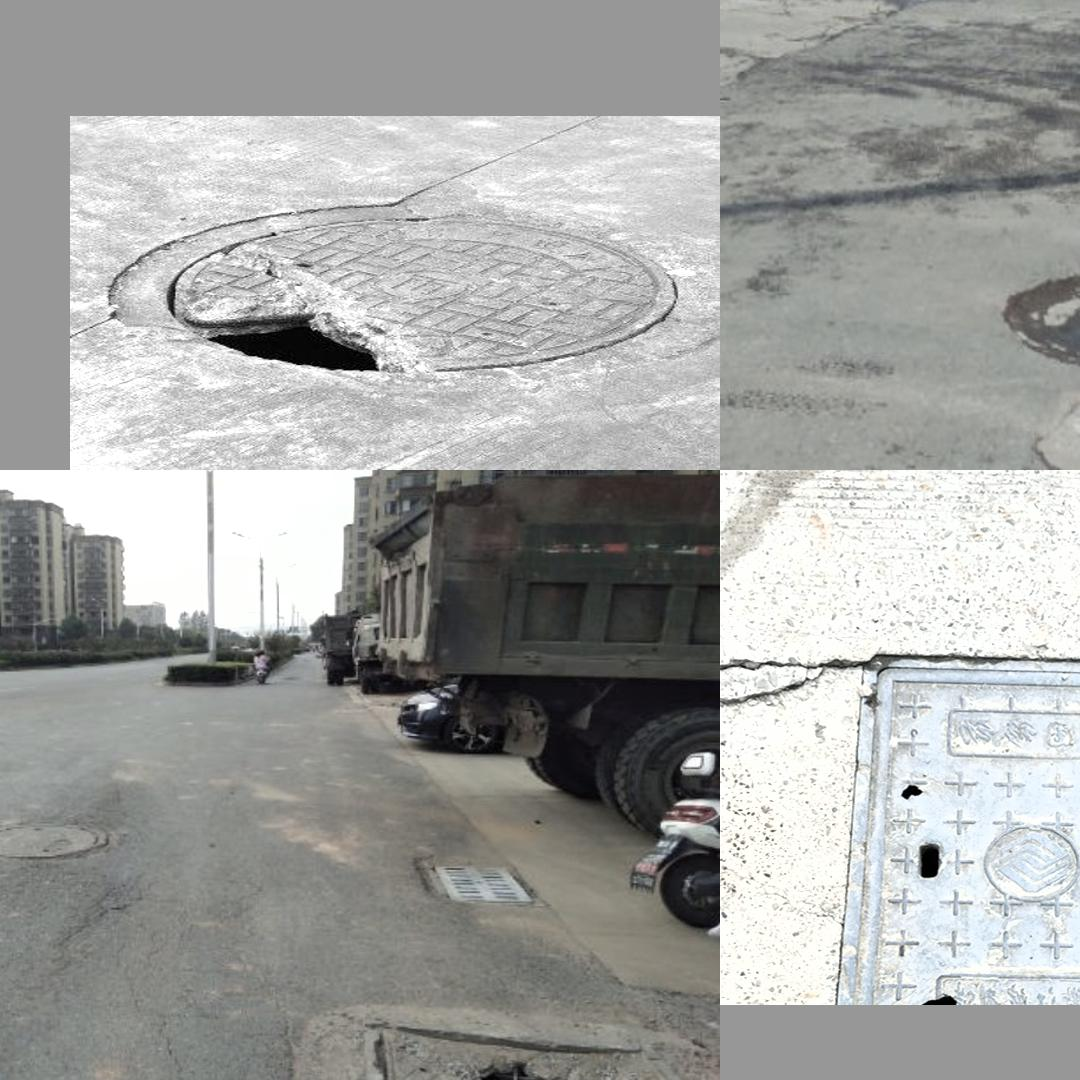broke: (834, 657, 1080, 1003), (182, 202, 679, 370), (360, 1005, 702, 1080), (1003, 264, 1080, 375)
